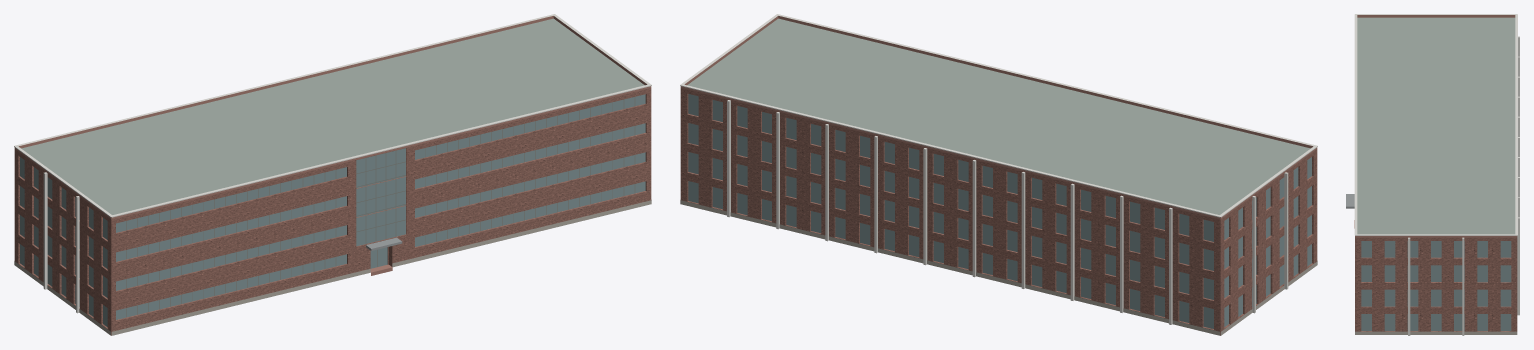
The picture shows the model from 3 angles, left to right: view 1: azimuth 30°, elevation 25°; view 2: azimuth 150°, elevation 25°; view 3: azimuth 270°, elevation 25°; orthographic projection. The views are drawn at different scales.
Parts seen in each view (by area): view 1: b115951766__wall, b115951766__roof, b115951766__glass, b115951766__trim, b115951766__parapet, b115951766__base, b115951766__frame; view 2: b115951766__wall, b115951766__roof, b115951766__glass, b115951766__trim, b115951766__parapet, b115951766__base; view 3: b115951766__roof, b115951766__wall, b115951766__glass, b115951766__trim, b115951766__parapet, b115951766__base.
Part boxes in pixels (x1,y1,x2,y2): b115951766__wall: [14, 88, 651, 335]; b115951766__roof: [21, 18, 644, 214]; b115951766__glass: [20, 94, 645, 326]; b115951766__trim: [14, 14, 651, 313]; b115951766__parapet: [14, 16, 651, 219]; b115951766__base: [14, 200, 651, 335]; b115951766__frame: [126, 97, 635, 317]; b115951766__wall: [680, 88, 1317, 335]; b115951766__roof: [687, 18, 1310, 335]; b115951766__glass: [688, 94, 1311, 328]; b115951766__trim: [680, 14, 1317, 324]; b115951766__parapet: [680, 16, 1317, 219]; b115951766__base: [680, 200, 1317, 335]; b115951766__roof: [1357, 17, 1515, 234]; b115951766__wall: [1355, 237, 1517, 331]; b115951766__glass: [1361, 241, 1511, 330]; b115951766__trim: [1354, 14, 1519, 335]; b115951766__parapet: [1355, 15, 1517, 237]; b115951766__base: [1355, 331, 1517, 334].
Bounding box in the file's own units: 70.68 × 15.15 × 23.26.
10 materials, 1 textured.
